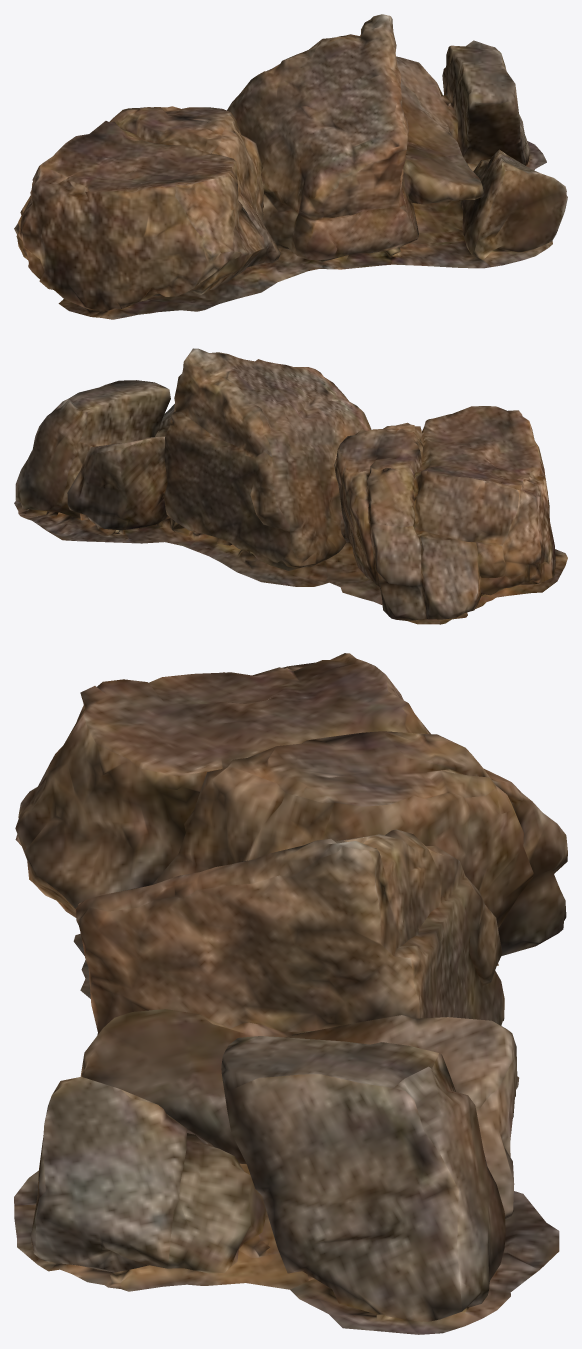
Rendered from rock_a.glb.
3 views of the same model, one above another, from view 1: azimuth 30°, elevation 25°; view 2: azimuth 150°, elevation 25°; view 3: azimuth 270°, elevation 25° (orthographic). The views are drawn at different scales.
Parts seen in each view (by area): view 1: boulder_02; view 2: boulder_02; view 3: boulder_02.
Boxes of the visible parts, x1,y1,x2,y2 form: boulder_02: (14, 14, 567, 319); boulder_02: (14, 348, 567, 624); boulder_02: (14, 653, 567, 1334).
Bounding box in the file's own units: 2.52 × 0.8804 × 1.23.
Materials: 1 (1 with a texture image).
